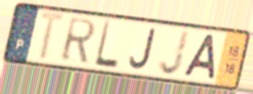A: (181, 32, 217, 82)
J: (157, 28, 191, 77), (128, 27, 157, 72)
L: (93, 19, 121, 71)
R: (59, 16, 98, 65)
T: (37, 10, 68, 63)
